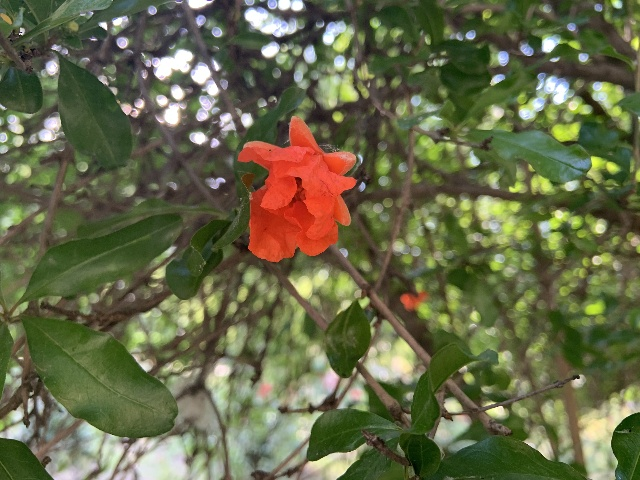flower: (239, 114, 357, 261)
